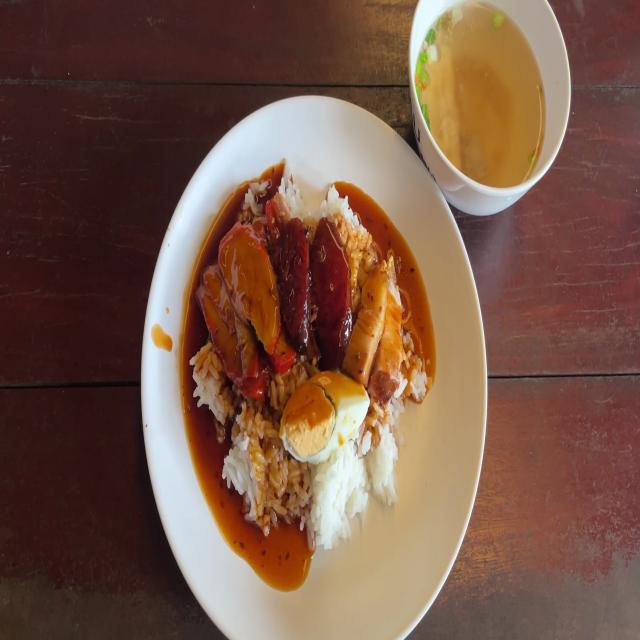01boiled_egg: (277, 371, 369, 464)
01chainese_sausage: (263, 194, 357, 372)
01crispy_pork: (344, 255, 406, 402)
01red_pork: (197, 200, 304, 396), (218, 220, 268, 291), (200, 263, 236, 339), (265, 194, 291, 251), (195, 280, 218, 330), (252, 218, 268, 244)
01red_pork_and_crispy_pork: (192, 167, 437, 540)
01rice: (371, 330, 421, 505), (231, 399, 292, 518), (306, 435, 368, 548), (190, 340, 234, 428), (221, 433, 260, 514), (366, 424, 398, 503), (322, 185, 367, 240), (272, 168, 304, 222), (384, 254, 404, 318), (243, 184, 267, 217), (191, 341, 215, 374), (282, 157, 294, 188), (195, 386, 210, 408), (319, 195, 333, 218), (326, 183, 339, 206), (250, 182, 262, 196), (257, 180, 269, 194)
